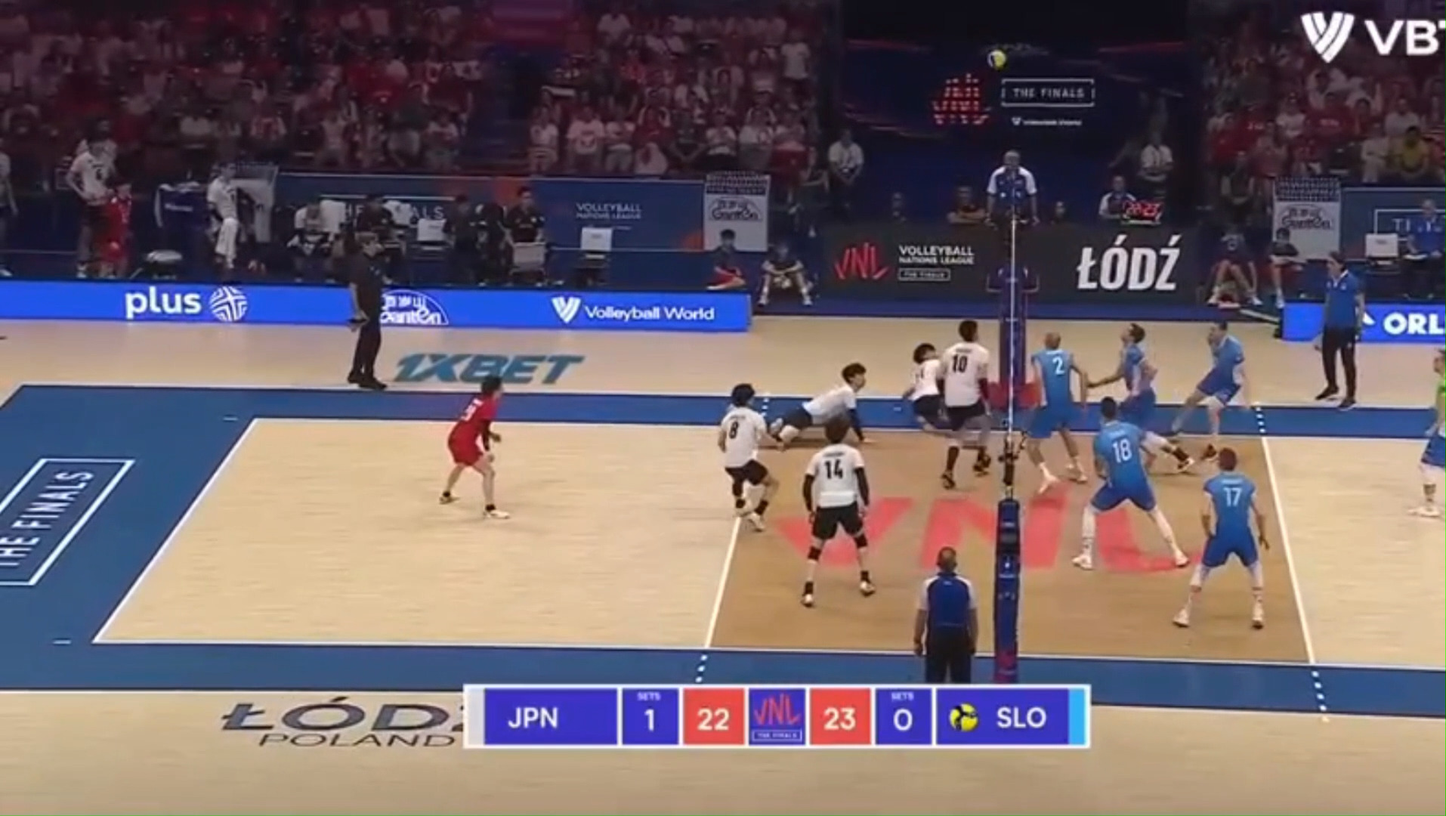ball: (985, 48, 1008, 70)
player: (1073, 398, 1191, 568), (1173, 447, 1268, 629), (1166, 321, 1245, 458), (1024, 332, 1087, 492), (1089, 323, 1157, 430), (1412, 381, 1445, 517), (1171, 452, 1191, 469), (1433, 351, 1445, 374)
player 1: (800, 419, 875, 607), (439, 376, 507, 518), (716, 383, 777, 530), (941, 320, 991, 488), (770, 363, 866, 449), (904, 343, 957, 436)
referee: (913, 547, 977, 683), (986, 150, 1039, 294), (1317, 252, 1364, 409), (344, 230, 387, 390)
